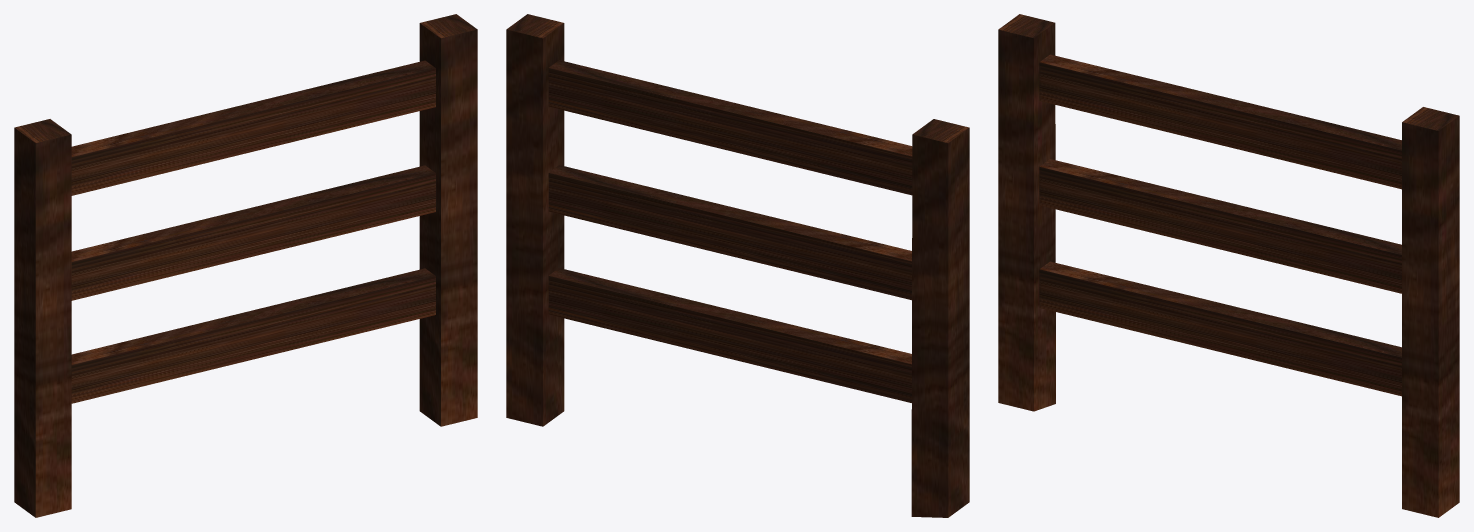
The model's file is darkfenceperfecht.fbx.
3 renders of one model, left to right at view 1: azimuth 30°, elevation 25°; view 2: azimuth 150°, elevation 25°; view 3: azimuth 330°, elevation 25°, orthographic.
Visible parts, largest first — view 1: Cube.020, Cube.021, Cube.023, Cube.024, Cube.022; view 2: Cube.020, Cube.021, Cube.022, Cube.023, Cube.024; view 3: Cube.021, Cube.020, Cube.024, Cube.023, Cube.022.
Part boxes in pixels (<box>): Cube.020: <box>14,119,71,517</box>; Cube.021: <box>419,14,477,426</box>; Cube.023: <box>71,165,435,300</box>; Cube.024: <box>71,268,435,403</box>; Cube.022: <box>71,60,435,195</box>; Cube.020: <box>911,119,969,517</box>; Cube.021: <box>506,14,564,426</box>; Cube.022: <box>548,60,912,195</box>; Cube.023: <box>548,165,911,300</box>; Cube.024: <box>548,268,911,402</box>; Cube.021: <box>1402,107,1459,517</box>; Cube.020: <box>998,14,1055,411</box>; Cube.024: <box>1039,261,1401,396</box>; Cube.023: <box>1039,159,1401,293</box>; Cube.022: <box>1039,54,1401,189</box>.
Size of the model in its own units: 595 by 500 by 50.
